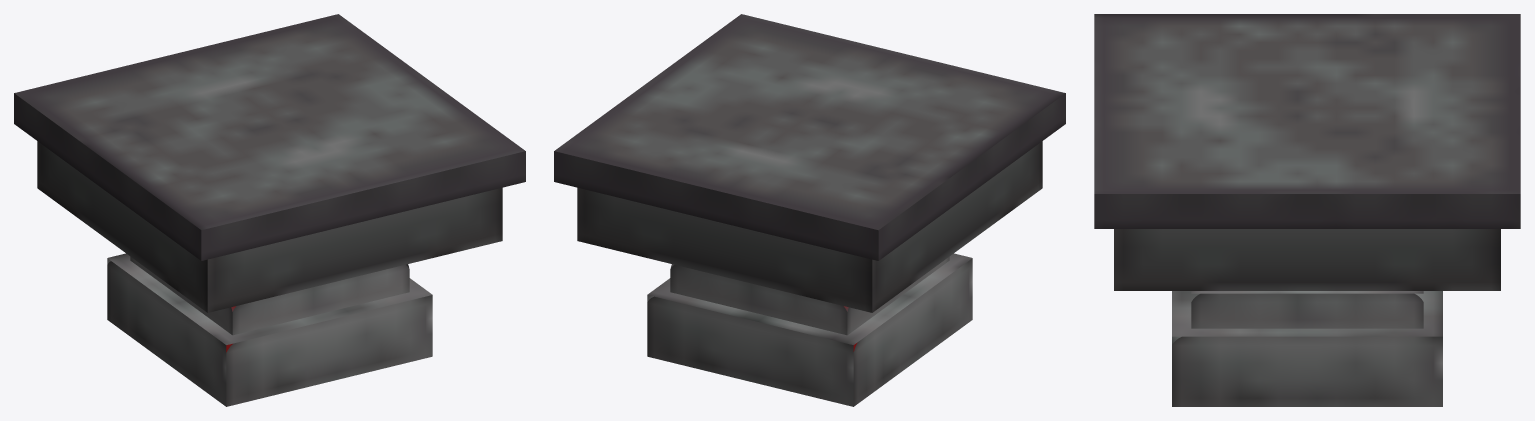
The model's file is rocket_engine.obj.
3 views of the same model, side by side, from view 1: azimuth 30°, elevation 25°; view 2: azimuth 150°, elevation 25°; view 3: azimuth 270°, elevation 25° (orthographic). The views are drawn at different scales.
Parts seen in each view (by area): view 1: RocketEngine_Cube.013; view 2: RocketEngine_Cube.013; view 3: RocketEngine_Cube.013.
Boxes of the visible parts, x1,y1,x2,y2 form: RocketEngine_Cube.013: (14, 14, 525, 406); RocketEngine_Cube.013: (554, 14, 1065, 406); RocketEngine_Cube.013: (1094, 14, 1520, 406).
Bounding box in the file's own units: 1.38 × 0.875 × 1.38.
